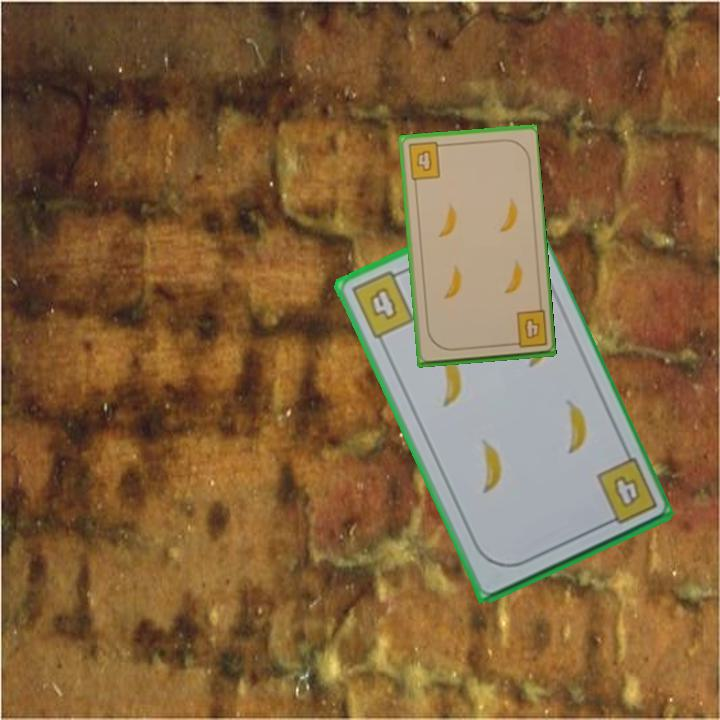4b: (347, 266, 417, 342), (592, 454, 660, 530), (505, 307, 550, 351), (405, 139, 447, 183)
